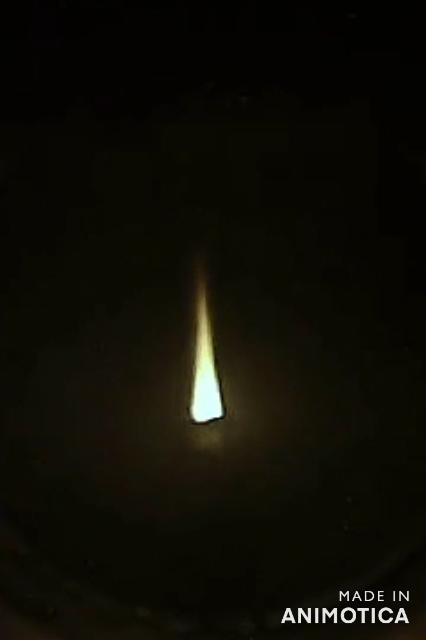burner flame: (188, 276, 227, 426)
